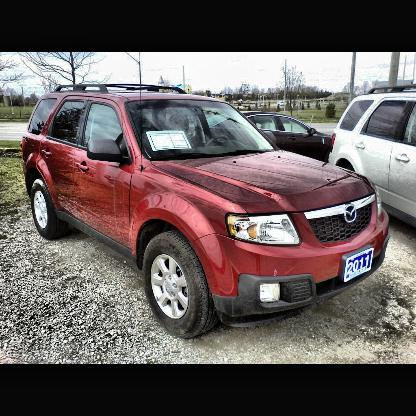Mazda Tribute SUV 2011: (20, 87, 392, 340)
